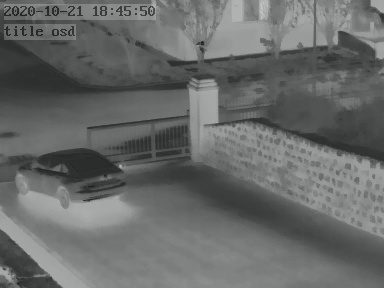vehicle: (16, 144, 131, 203)
